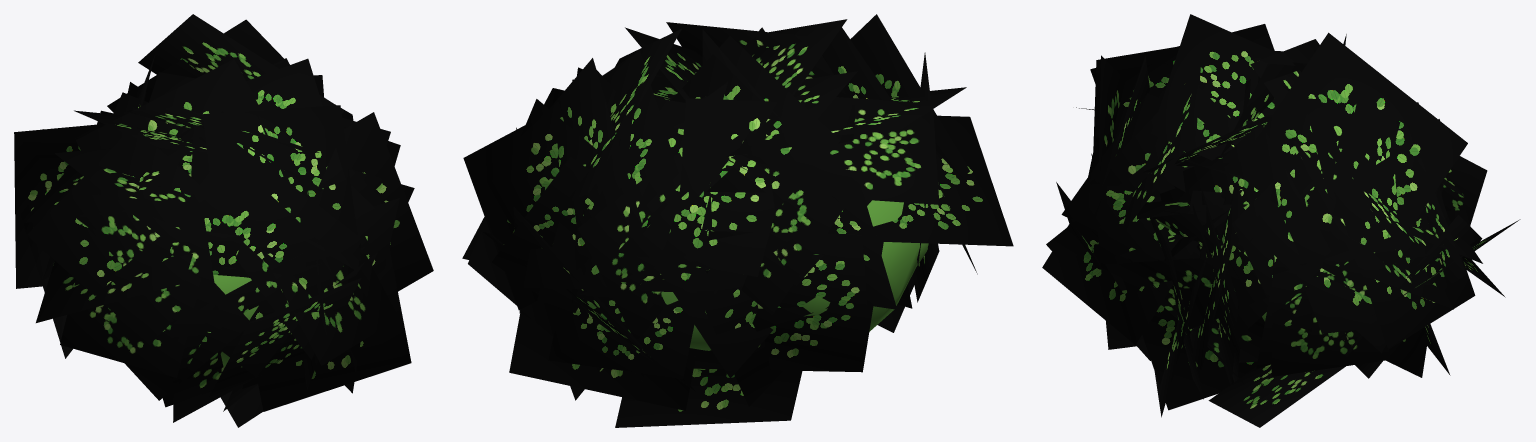
File: plant_bush_leafy.glb
The picture shows the model from 3 angles, left to right: view 1: azimuth 30°, elevation 25°; view 2: azimuth 150°, elevation 25°; view 3: azimuth 270°, elevation 25°; orthographic projection. The views are drawn at different scales.
Parts seen in each view (by area): view 1: bush, bush_bush_core; view 2: bush, bush_bush_core; view 3: bush.
Part boxes in pixels (<box>): bush: <box>14,14,433,427</box>; bush_bush_core: <box>53,265,258,366</box>; bush: <box>462,14,1013,427</box>; bush_bush_core: <box>661,200,928,350</box>; bush: <box>1042,14,1520,427</box>.
Bounding box in the file's own units: 1.88 × 1.69 × 1.89.
Materials: 2 (1 with a texture image).
